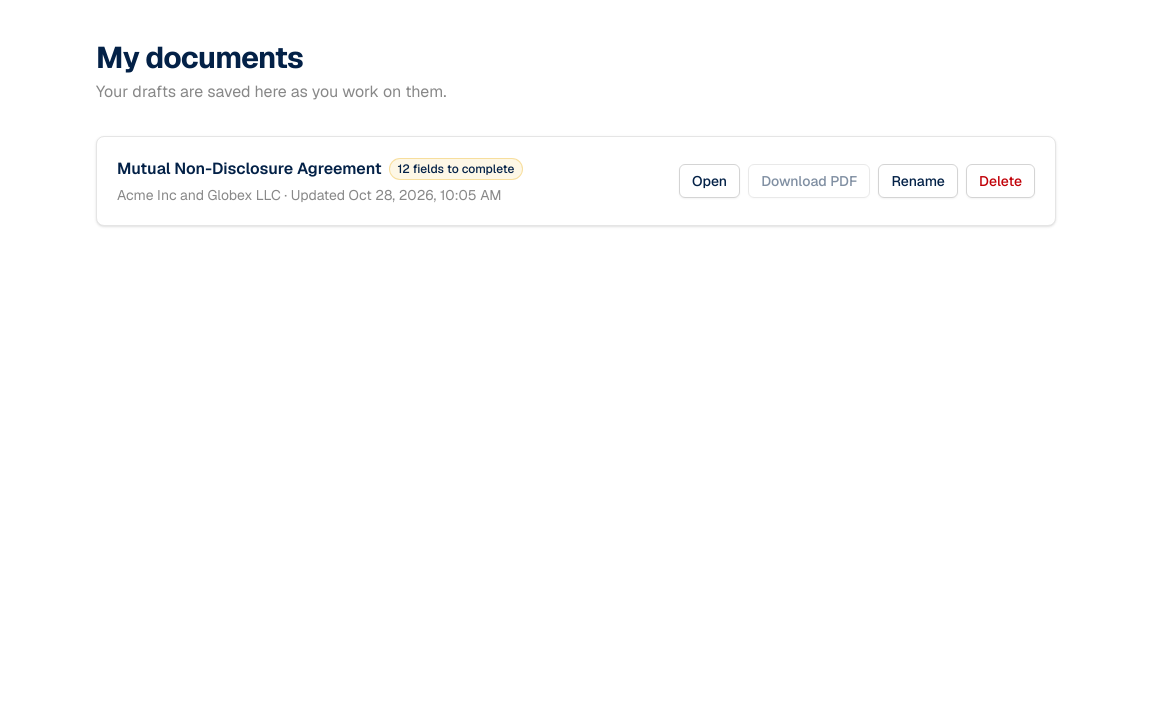
Test case: renaming a document › names it, keeping its kind of document in the details
Click the button "Rename" at point(918, 181), box [878, 164, 958, 198]
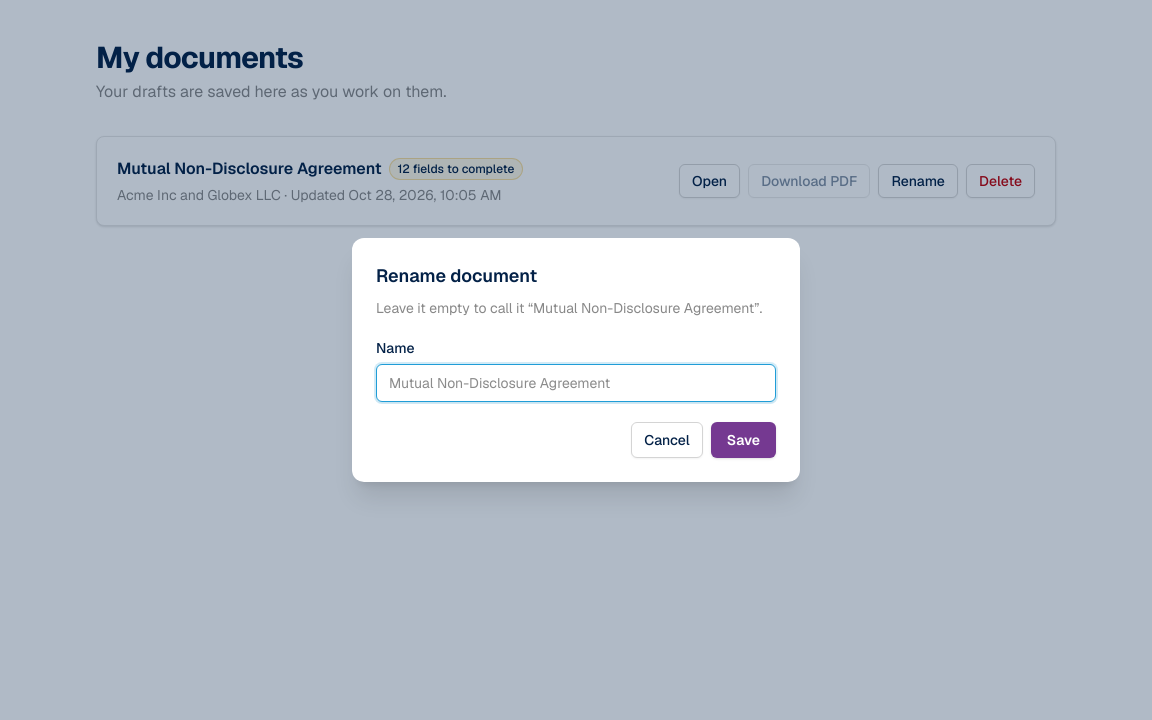
Expected: the link "Mutual Non-Disclosure Agreement" is shown, [117, 157, 382, 181]
Now the field labelled "Name" is empty
Type "Q3 NDA" into the field labelled "Name" at point(576, 383), box [376, 364, 776, 402]
Then press Enter
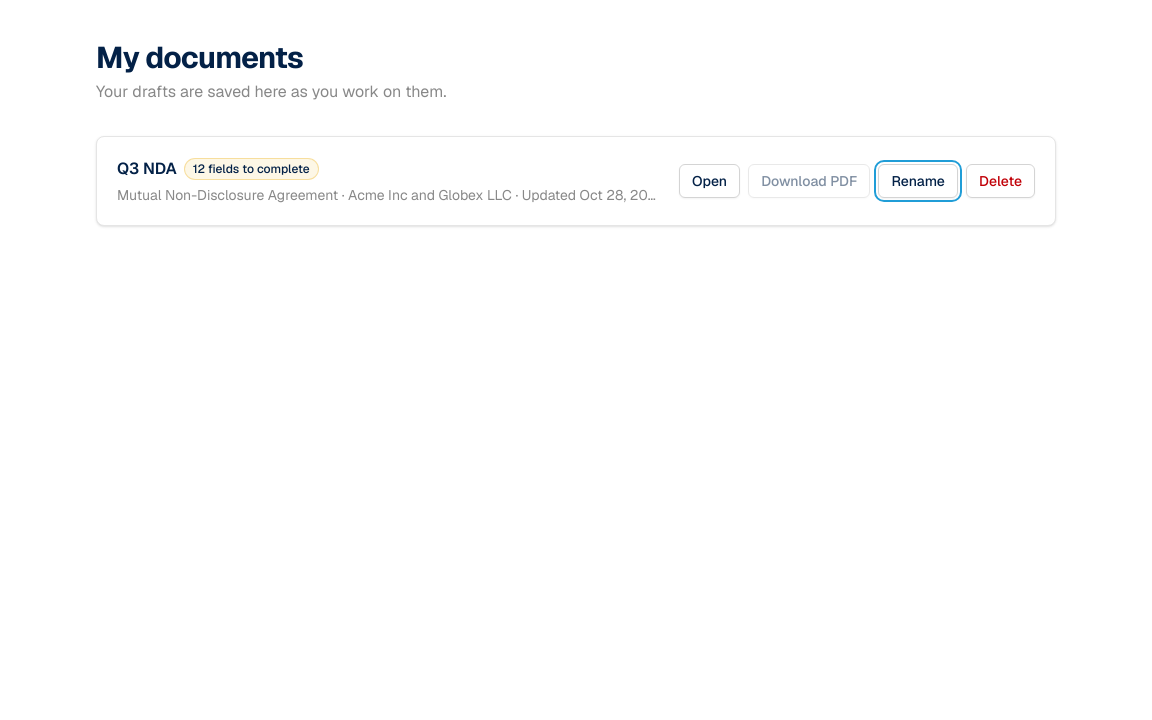
Now the dialog is gone
Now the link "Q3 NDA" is shown, box [117, 157, 177, 181]
Now the text "Updated" shows "Mutual Non-Disclosure Agreement · Acme Inc and Globex LLC · Updated", box [117, 186, 732, 204]
